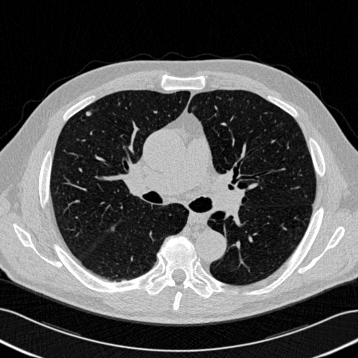nodule: (86, 111, 90, 115)
